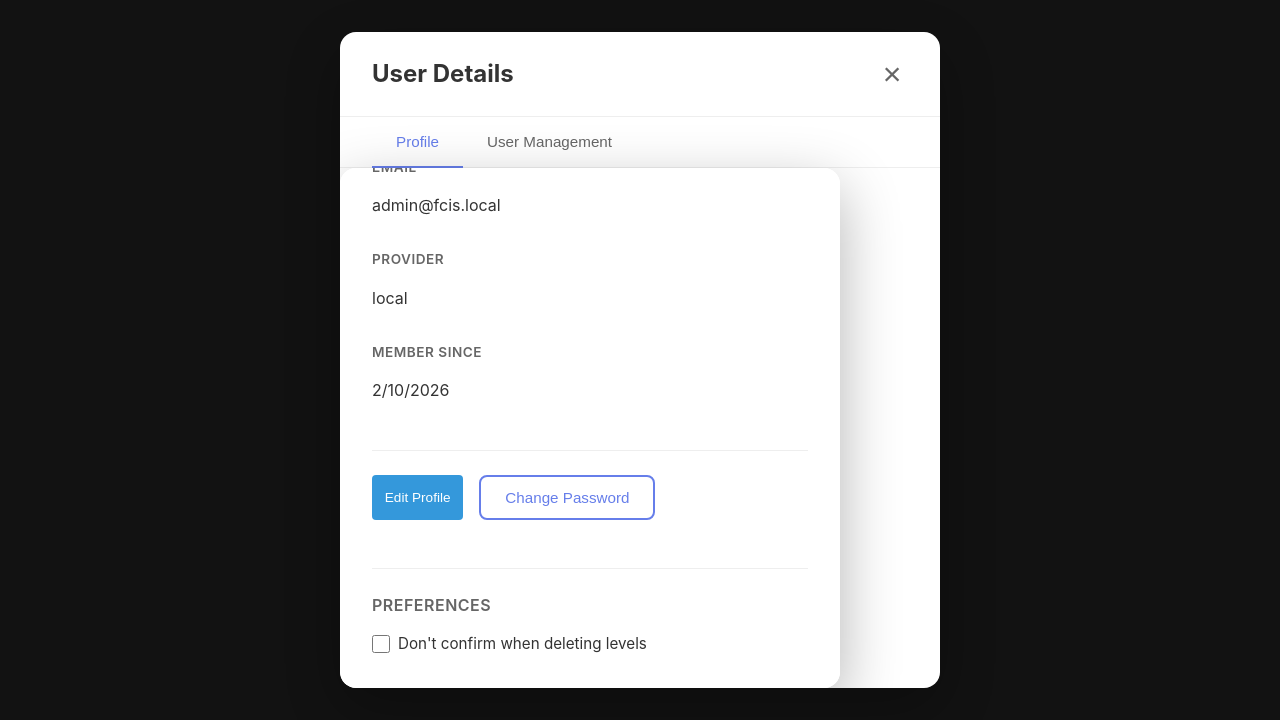
Test: UserDetailsModal › Profile Tab › should cancel editing and revert changes
(page scrolled)
// Enter edit mode
Click the button "Edit Profile" at [418, 498], box x1=372 y1=475 x2=463 y2=520
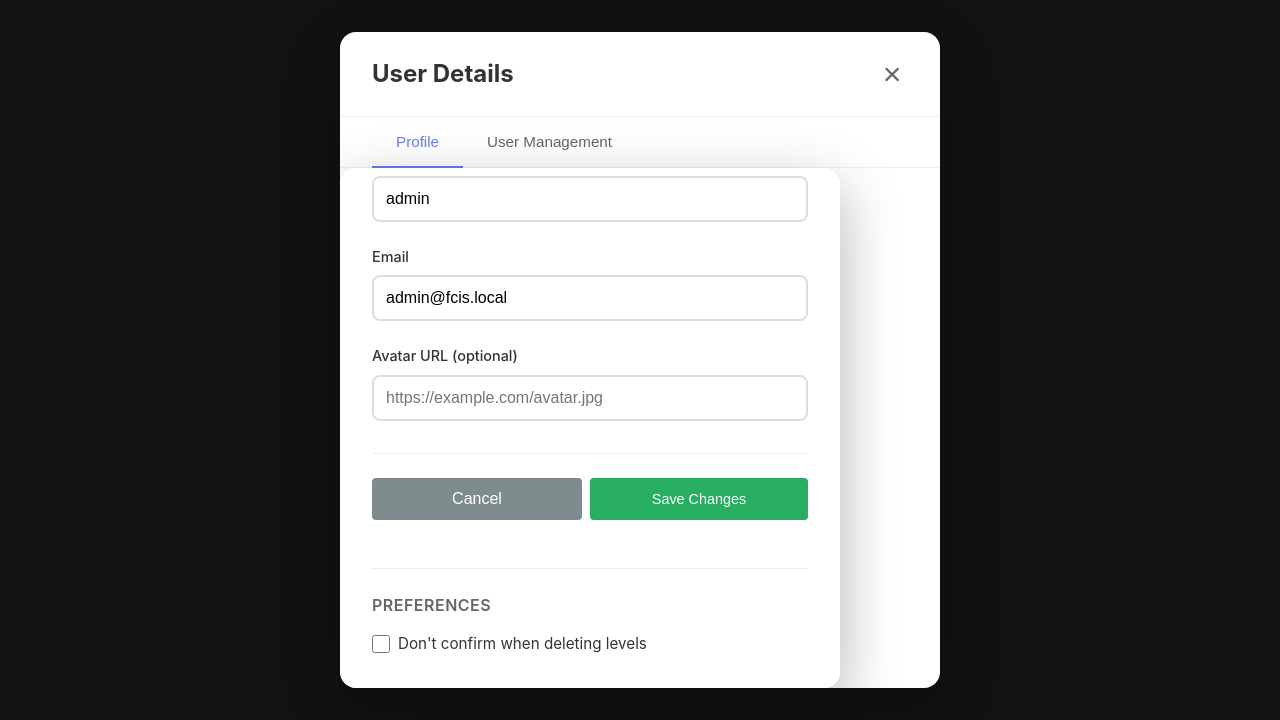
// Change username
Replace the text in the field labelled "Username" with "ChangedName" at [590, 199], box x1=372 y1=176 x2=808 y2=222
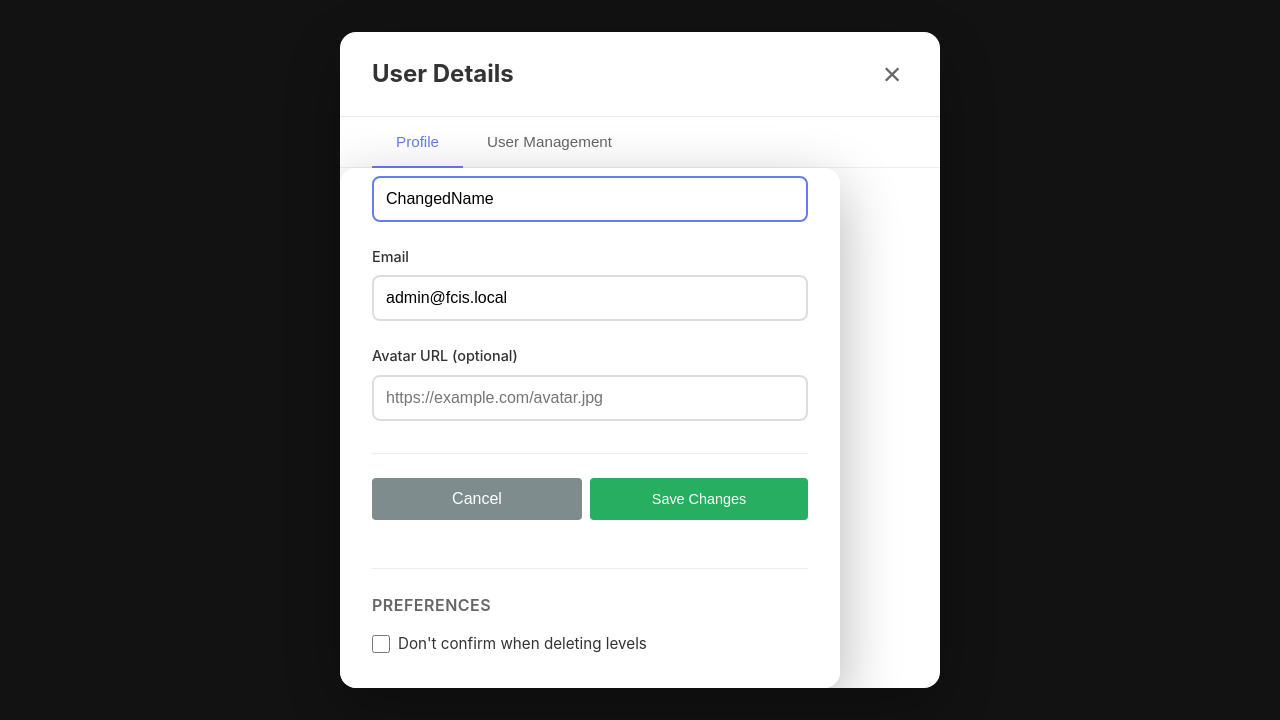
Click the button "Cancel" at [477, 499], box x1=372 y1=478 x2=582 y2=520
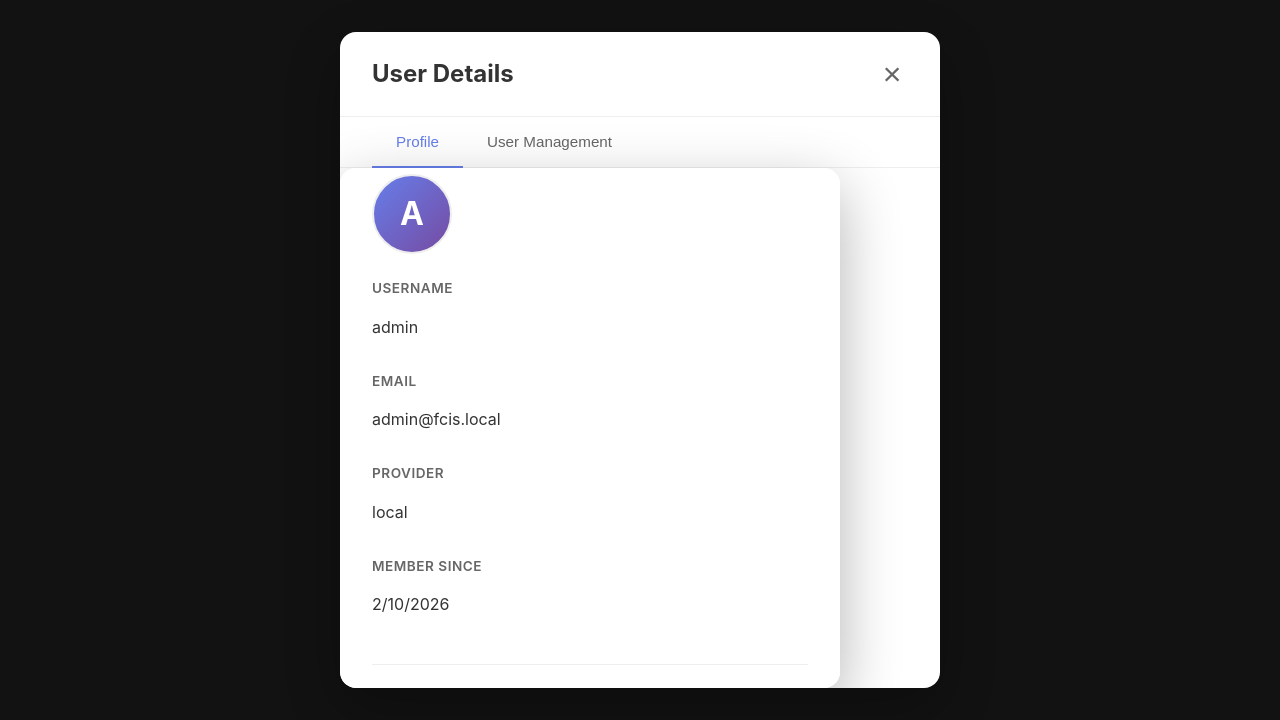
expect the text "admin" is shown: met, box x1=372 y1=317 x2=418 y2=337
